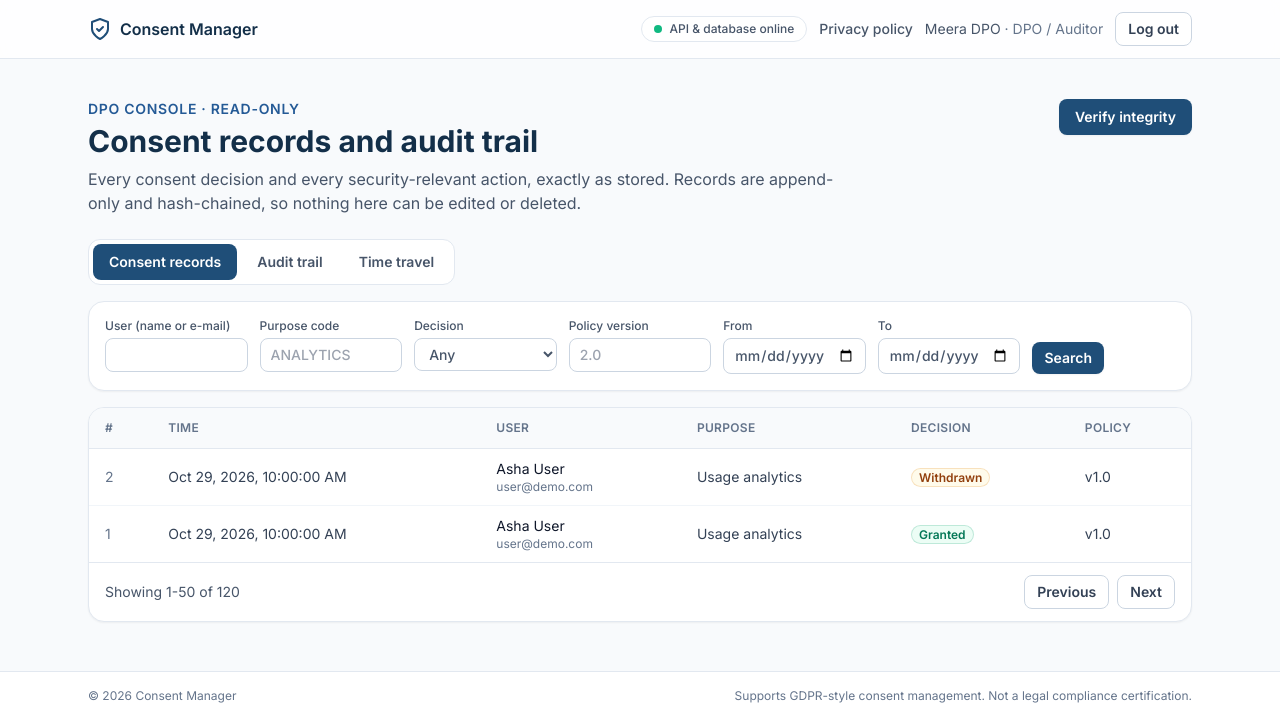
Test: search and filter (#26, FR-19) › says when nothing matches
Type "nobody" into the field labelled "User (name or e-mail)" at (176,355), box [105,338,248,372]
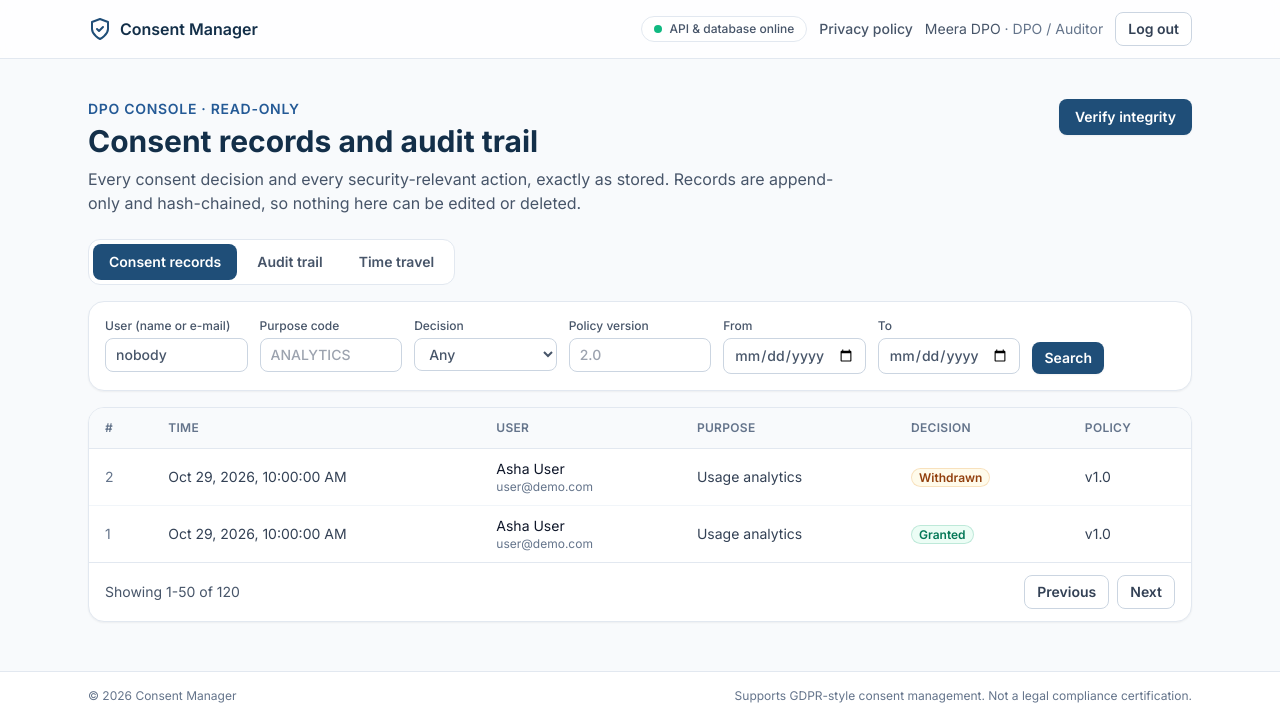
Click the button "Search" at (1068,358), box [1032,342,1104,374]
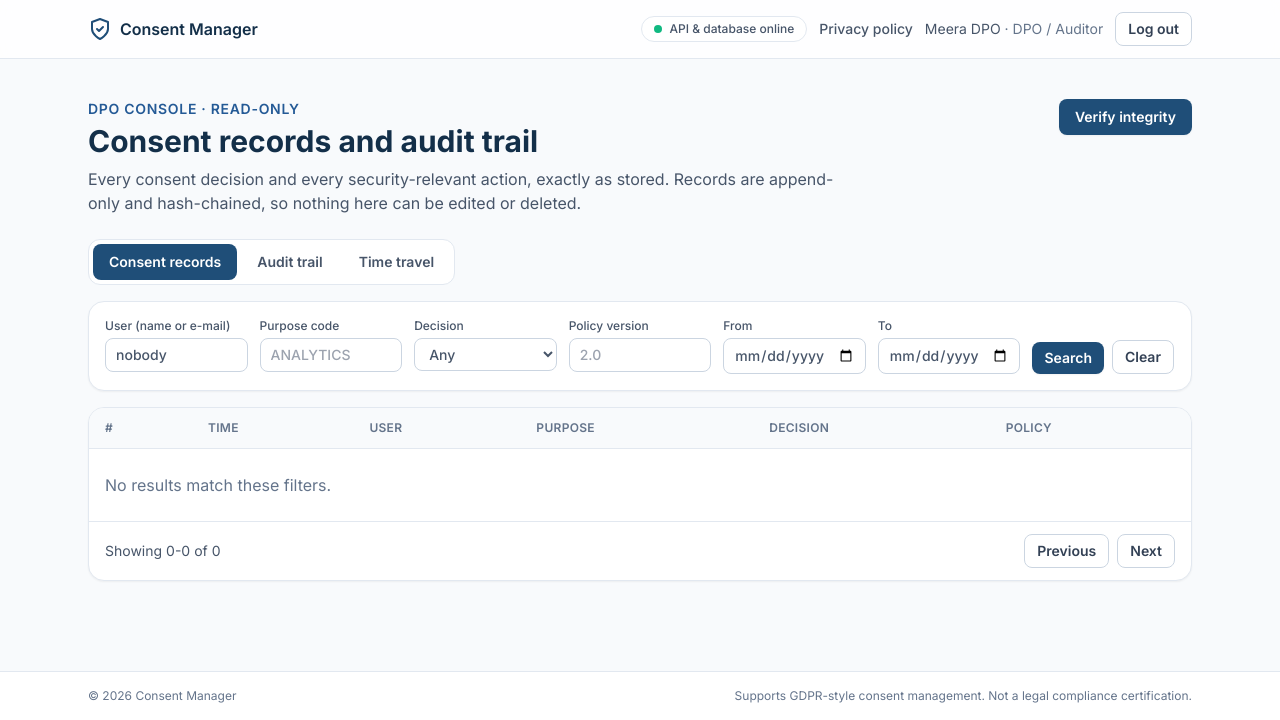
Check: the text "No results match these filters." is shown, box [105,475,331,495]
